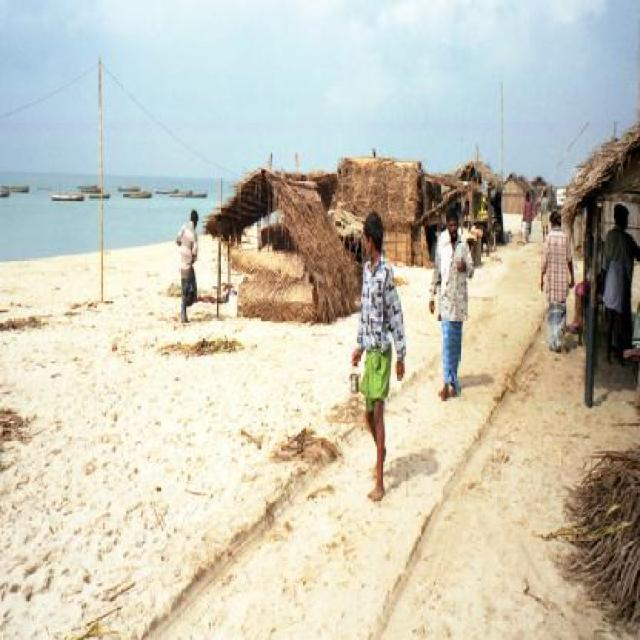Person: (359, 216, 407, 490), (428, 208, 474, 400), (602, 203, 638, 366), (537, 209, 575, 354), (174, 209, 200, 322), (522, 190, 535, 241)
